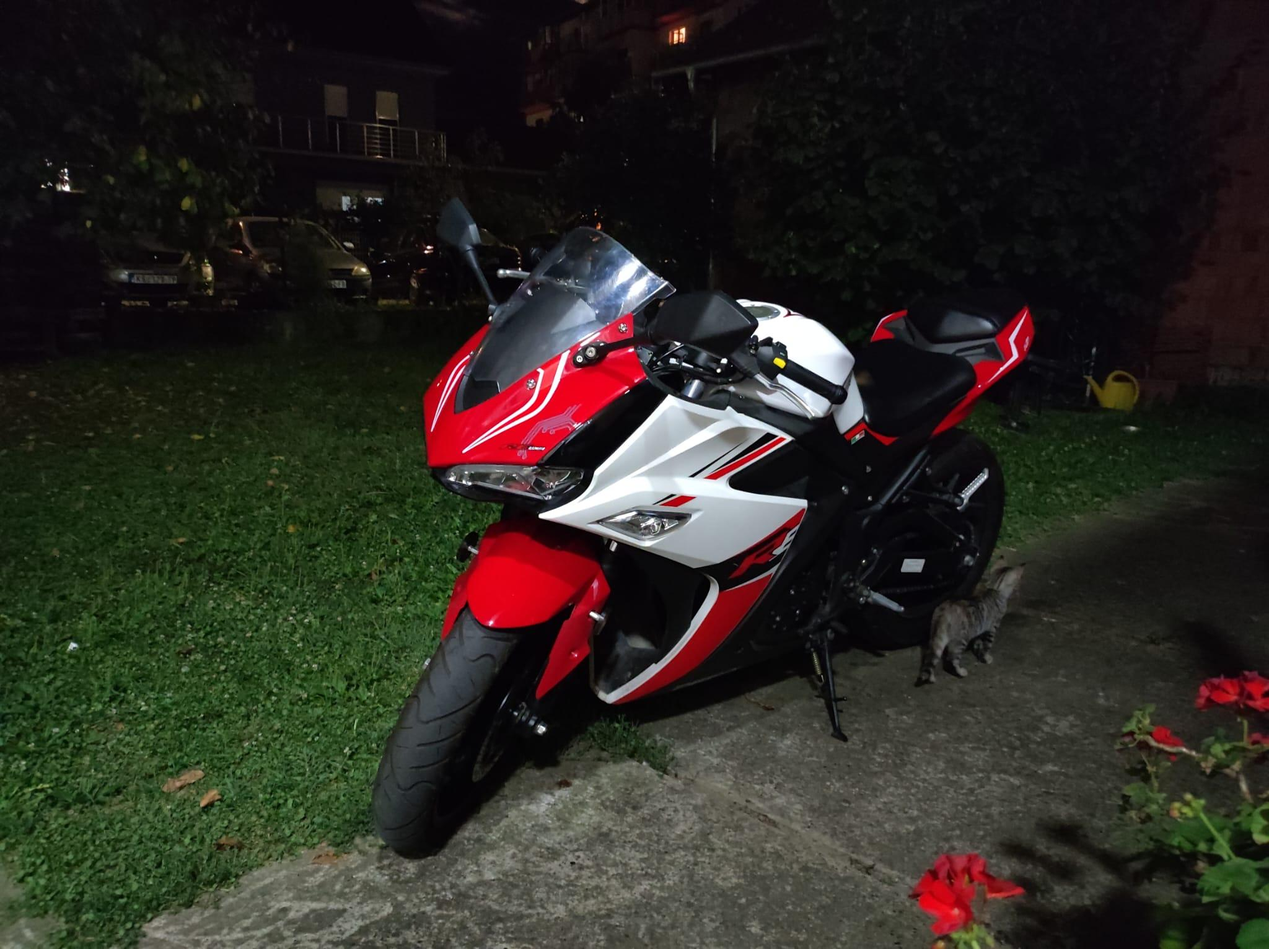macka: (913, 554, 1028, 686)
